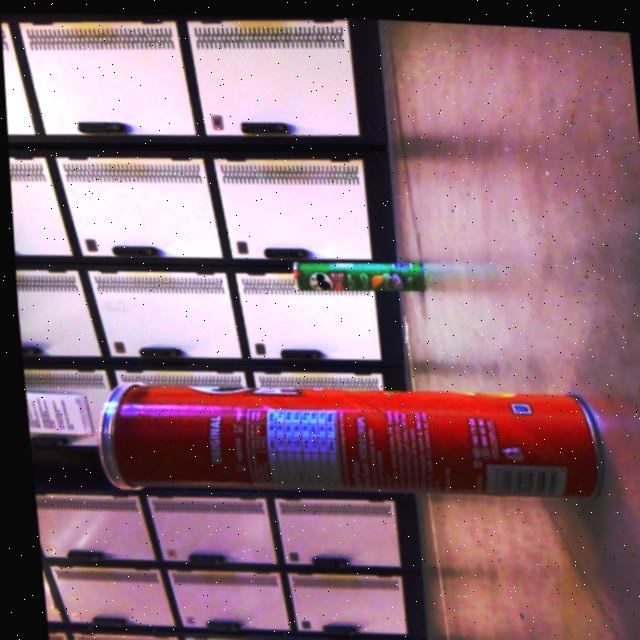greenpringles: (282, 235, 427, 303)
redpringles: (81, 344, 610, 525)
